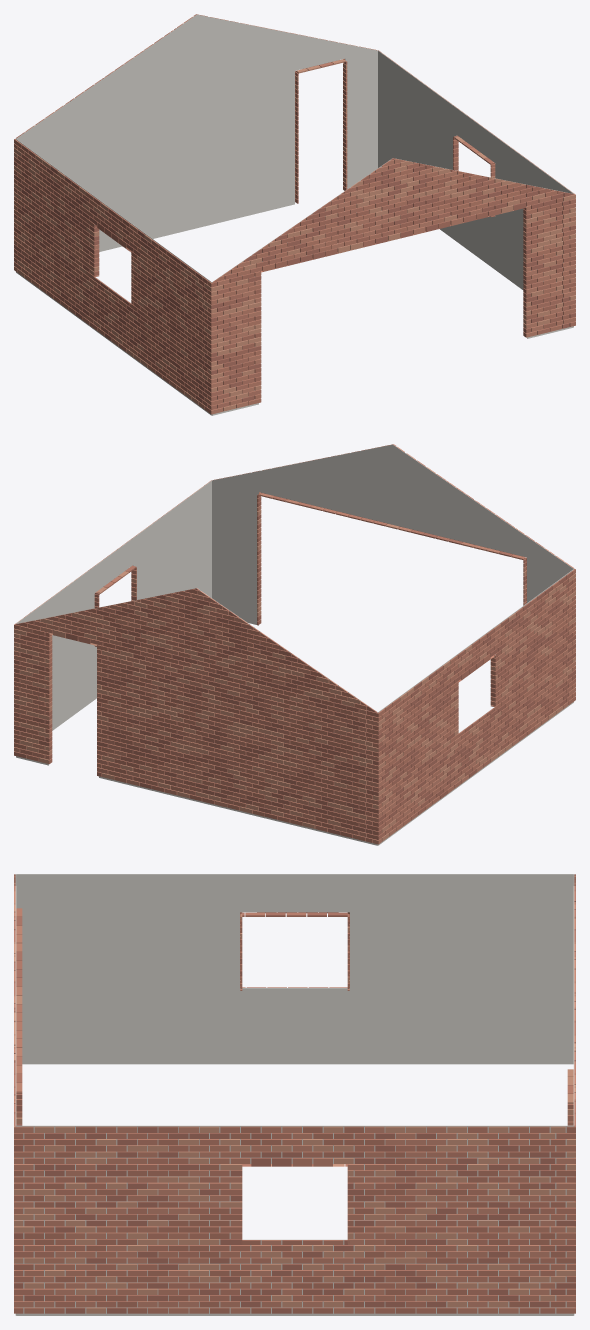
File: stage-8.glb
The picture shows the model from 3 angles, top to bottom: view 1: azimuth 30°, elevation 25°; view 2: azimuth 150°, elevation 25°; view 3: azimuth 270°, elevation 25°; orthographic projection. The views are drawn at different scales.
Parts seen in each view (by area): view 1: Geom3D (×7); view 2: Geom3D (×7); view 3: Geom3D (×7).
Part boxes in pixels (x1,y1,x2,y2): Geom3D (×7): (14, 14, 575, 415); Geom3D (×7): (14, 444, 575, 845); Geom3D (×7): (14, 874, 575, 1315).
Size of the model in its own units: 6.53 by 3.66 by 6.13.
